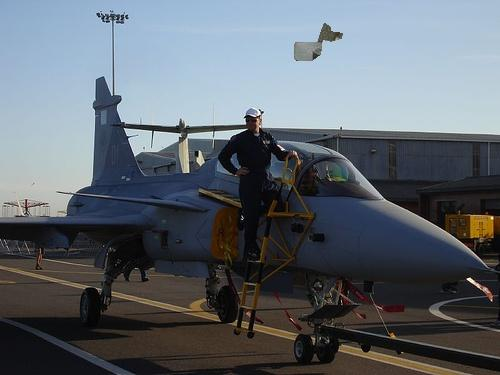tampered: (295, 24, 343, 61)
